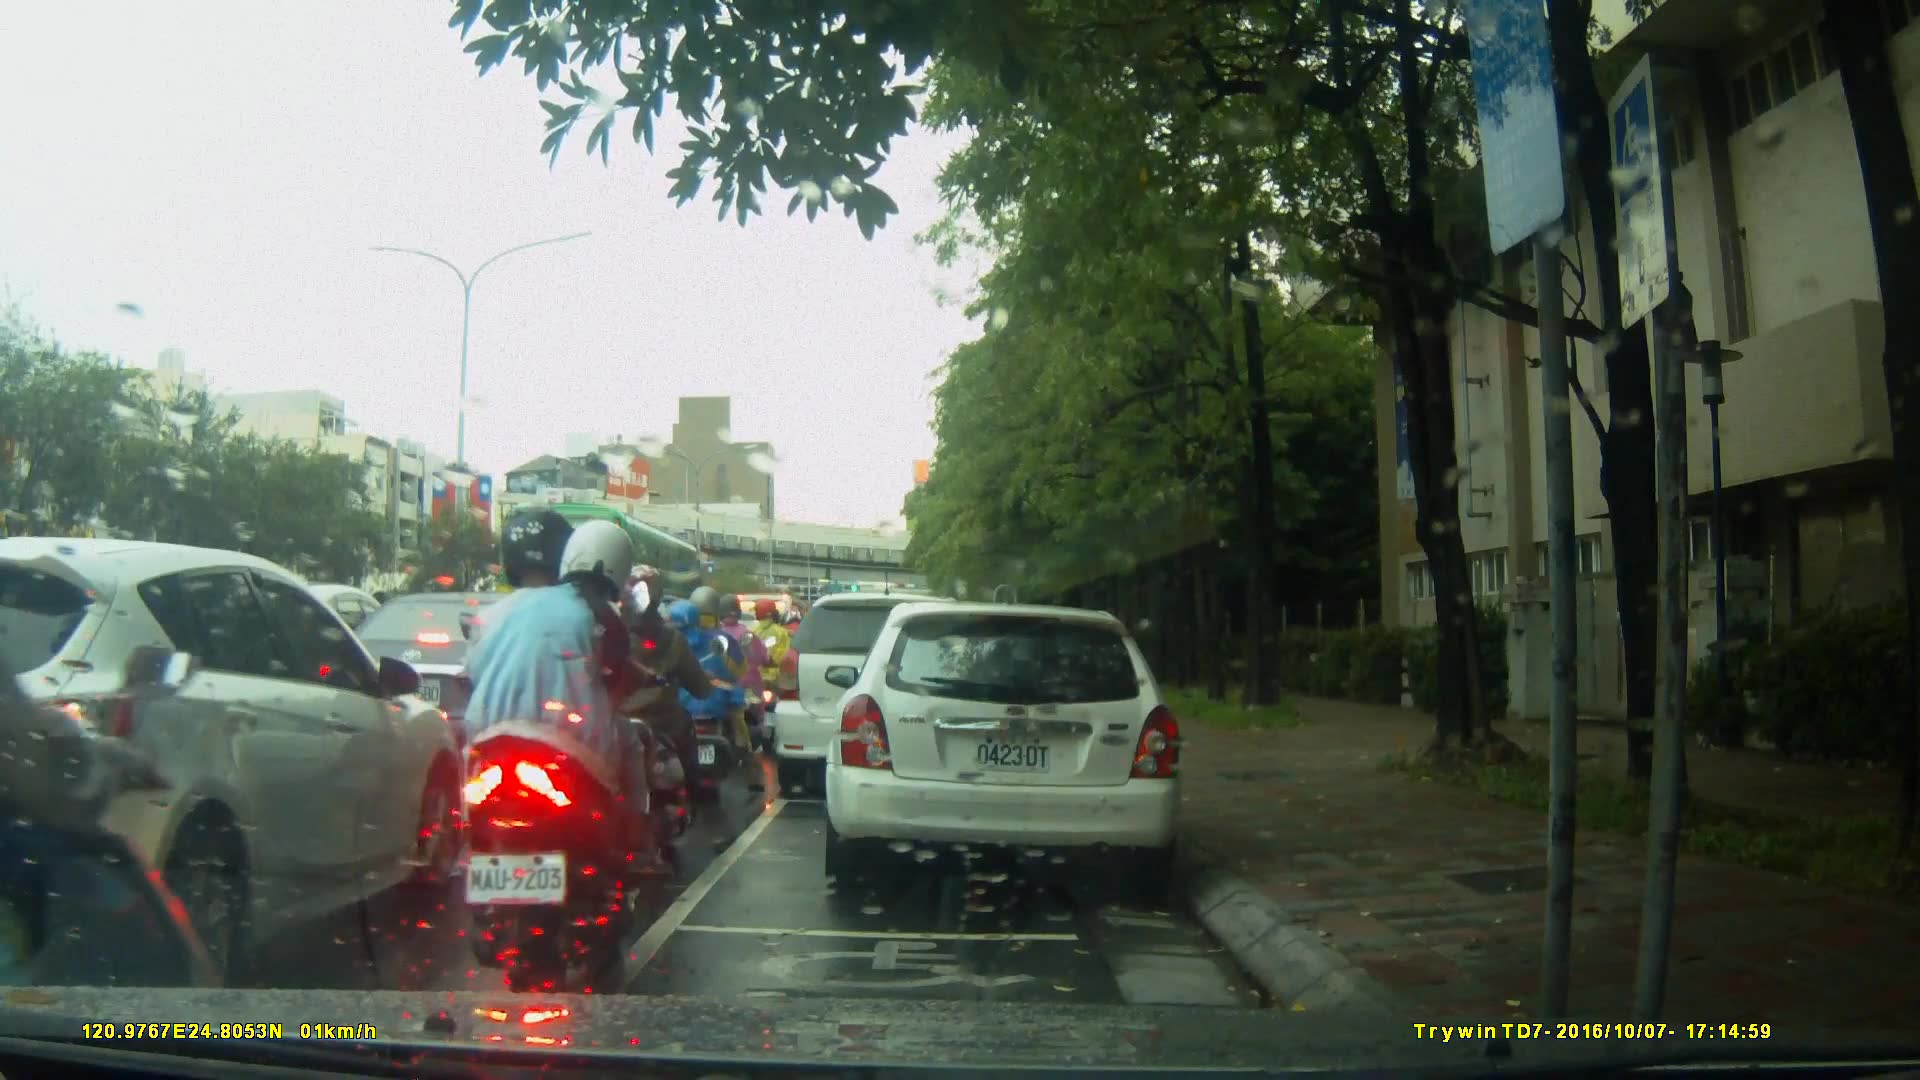rider: (459, 506, 667, 989), (605, 568, 731, 853), (660, 587, 744, 797), (699, 598, 771, 764), (741, 598, 798, 745)
vehicle: (4, 536, 464, 988), (831, 592, 1196, 897), (312, 589, 629, 776), (771, 590, 999, 803), (498, 501, 710, 636)
